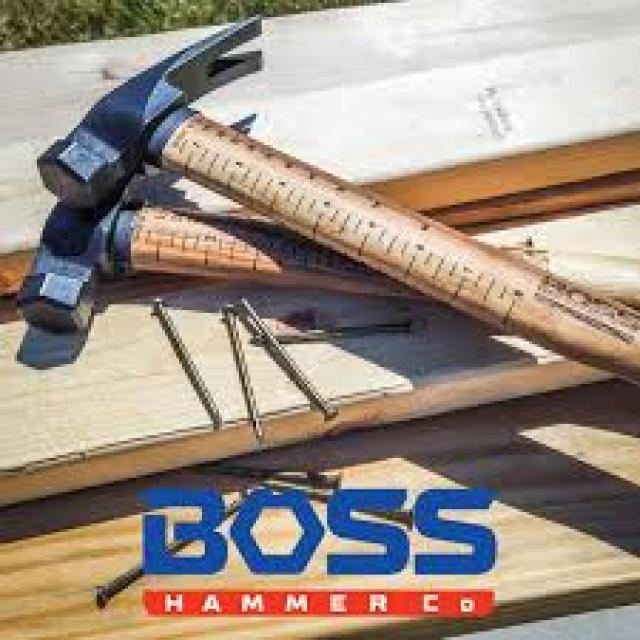hammer: (25, 8, 640, 398), (5, 111, 640, 364)
